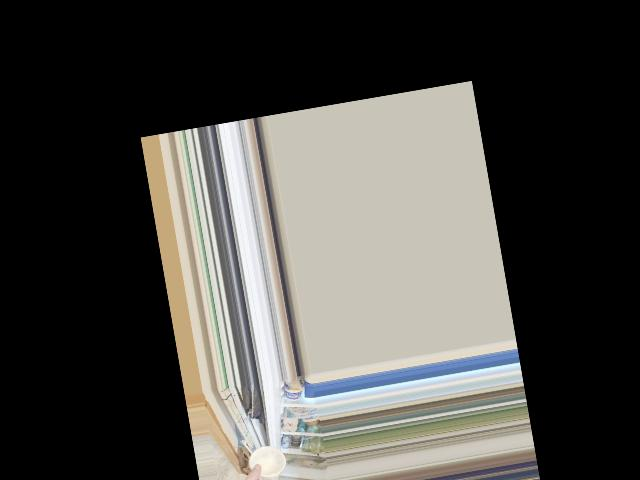cotage: (243, 444, 283, 480)
